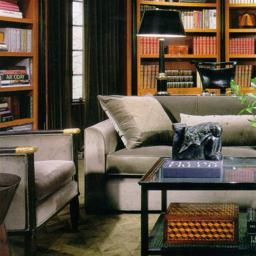Ventana: (46, 3, 114, 98)
